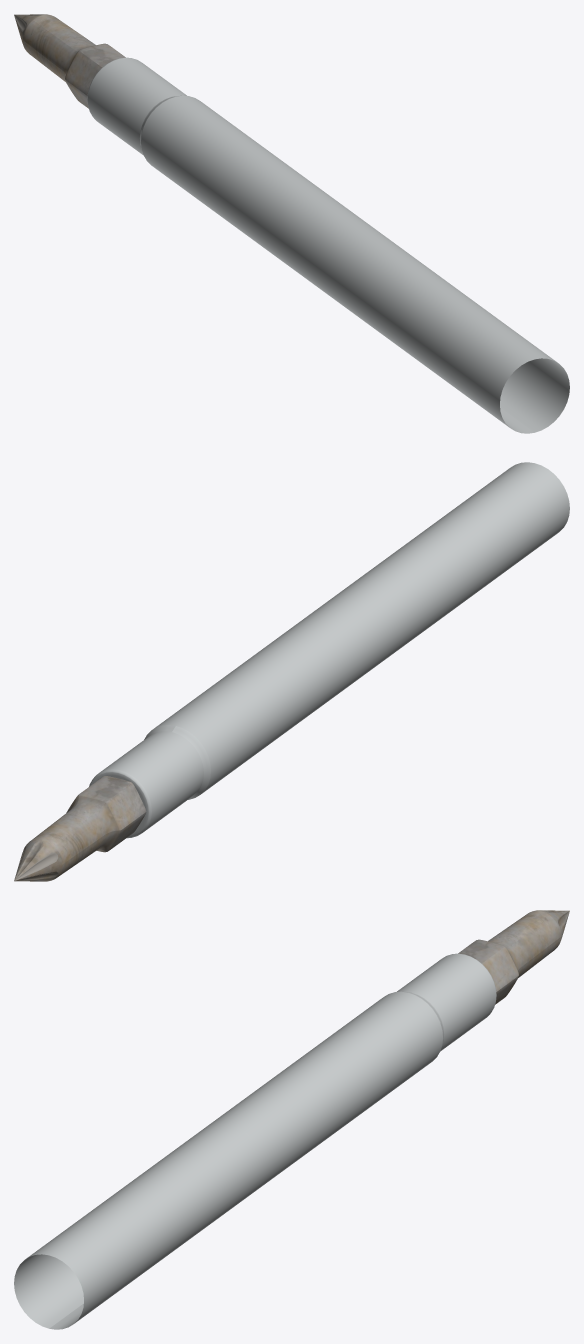
File: screwdriver tip.fbx
The picture shows the model from 3 angles, top to bottom: view 1: azimuth 30°, elevation 25°; view 2: azimuth 150°, elevation 25°; view 3: azimuth 330°, elevation 25°; orthographic projection.
Parts seen in each view (by area): view 1: ScrewSubs_obj_cleaner_materialmerger_gles; view 2: ScrewSubs_obj_cleaner_materialmerger_gles; view 3: ScrewSubs_obj_cleaner_materialmerger_gles.
Boxes of the visible parts, x1,y1,x2,y2 form: ScrewSubs_obj_cleaner_materialmerger_gles: (14, 14, 569, 433); ScrewSubs_obj_cleaner_materialmerger_gles: (14, 462, 569, 881); ScrewSubs_obj_cleaner_materialmerger_gles: (14, 910, 569, 1329).
Bounding box in the file's own units: 472 × 472 × 6065.
Materials: 1 (1 with a texture image).
